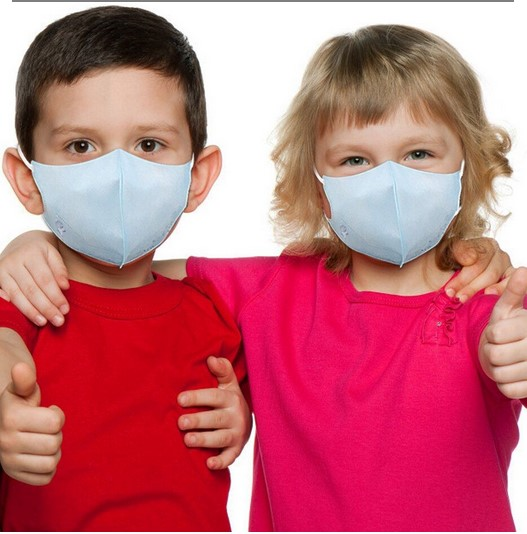face_with_mask: (19, 30, 204, 268), (302, 55, 471, 275)
